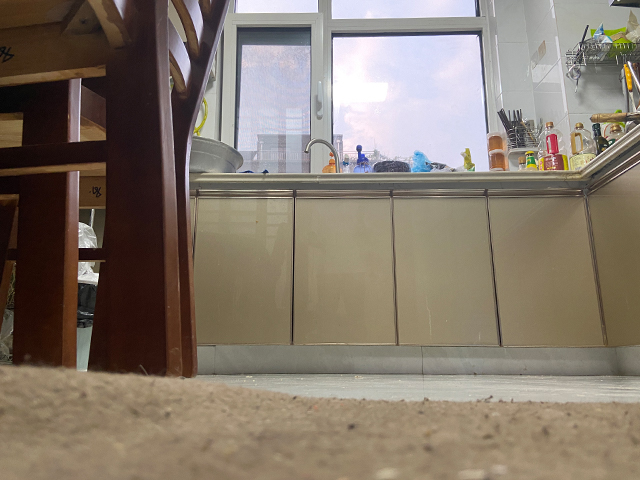cabinet: (188, 165, 592, 376)
carpet: (1, 363, 639, 480)
stool: (1, 1, 232, 377)
